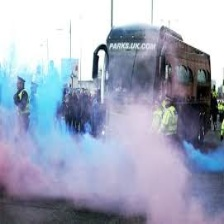smoke: (10, 120, 206, 210)
